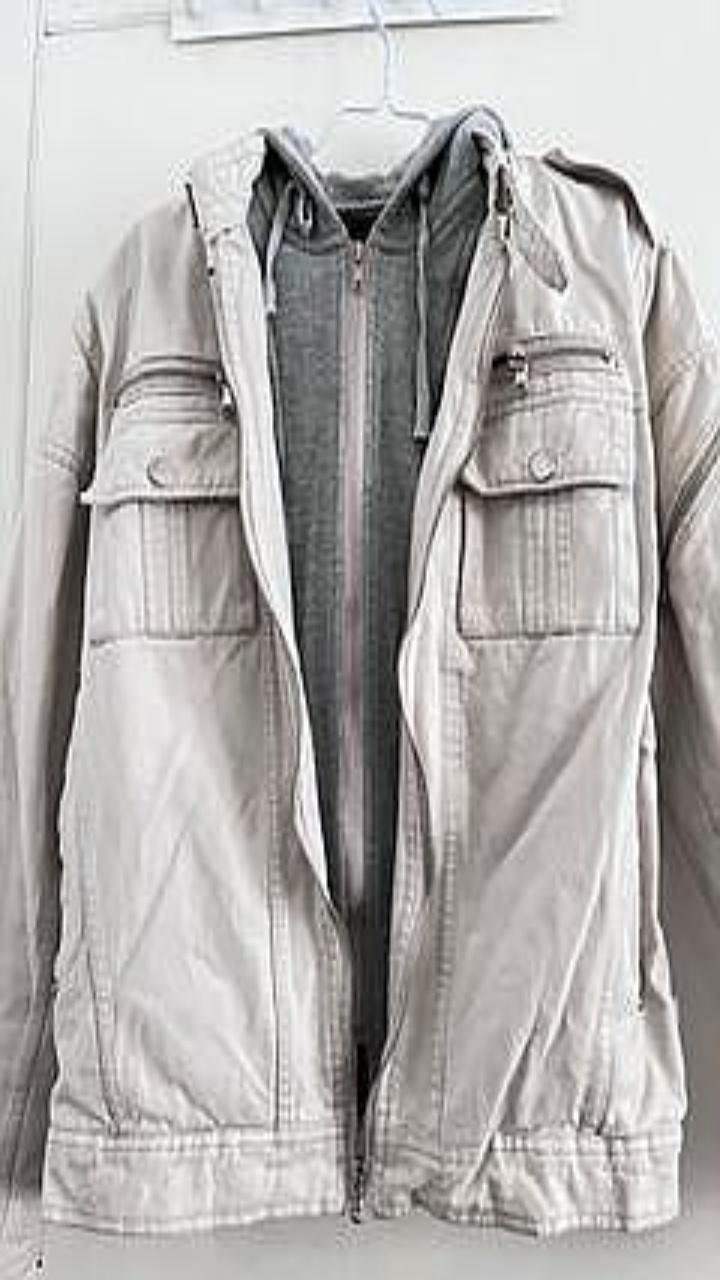Sports_Jacket: (0, 105, 719, 1270)
